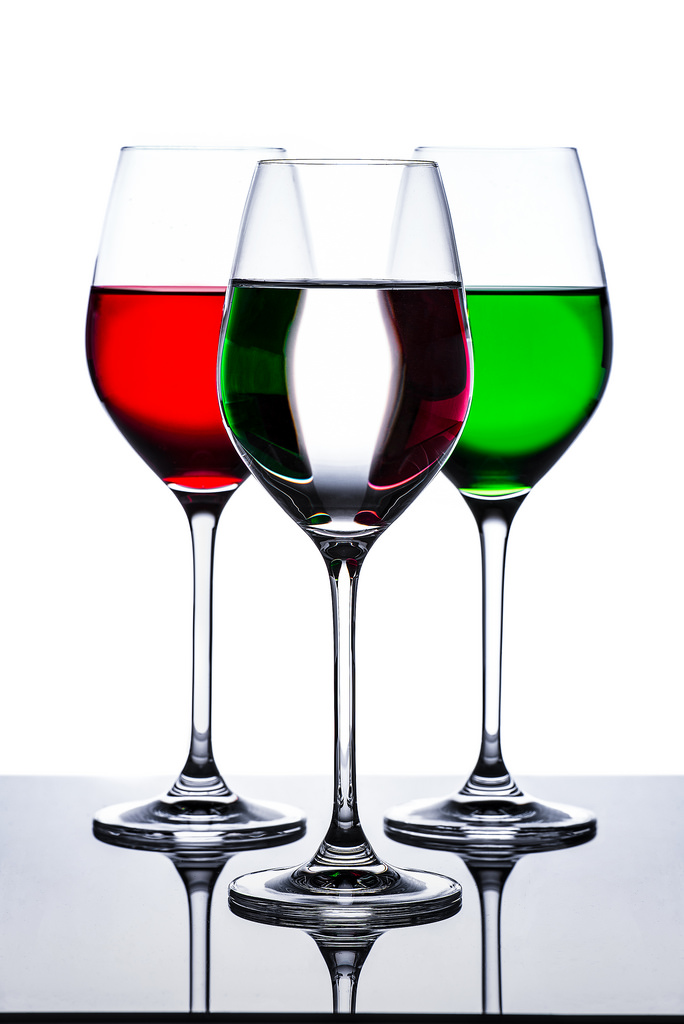glass of water: (229, 152, 445, 954)
